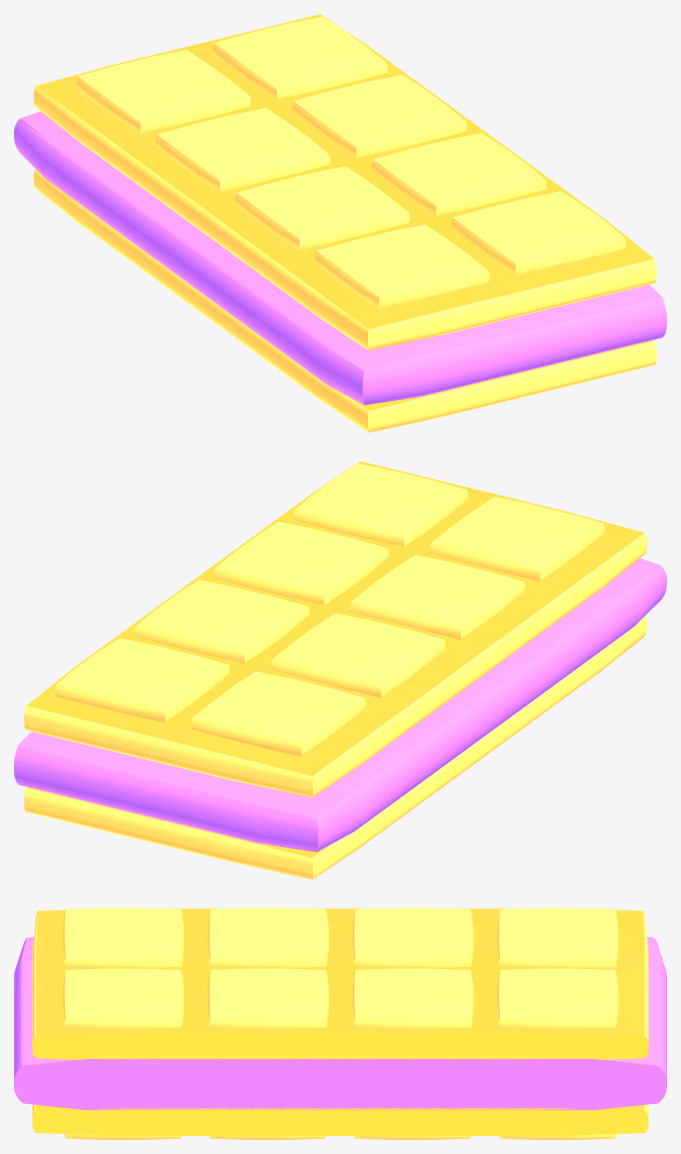
The picture shows the model from 3 angles, top to bottom: view 1: azimuth 30°, elevation 25°; view 2: azimuth 150°, elevation 25°; view 3: azimuth 270°, elevation 25°; orthographic projection. The views are drawn at different scales.
Visible parts, largest first — view 1: WaferBig-left; view 2: WaferBig-left; view 3: WaferBig-left.
Part boxes in pixels (<box>): WaferBig-left: <box>14,14,666,432</box>; WaferBig-left: <box>14,461,666,879</box>; WaferBig-left: <box>14,908,666,1139</box>.
Bounding box in the file's own units: 0.5972 × 0.2556 × 1.21.
